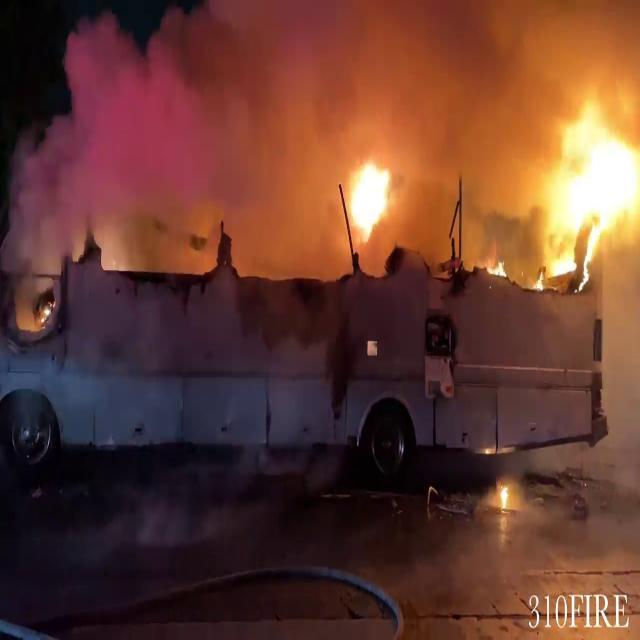Fire: (512, 99, 640, 285), (337, 149, 403, 247)
Smoke: (1, 0, 551, 258)
